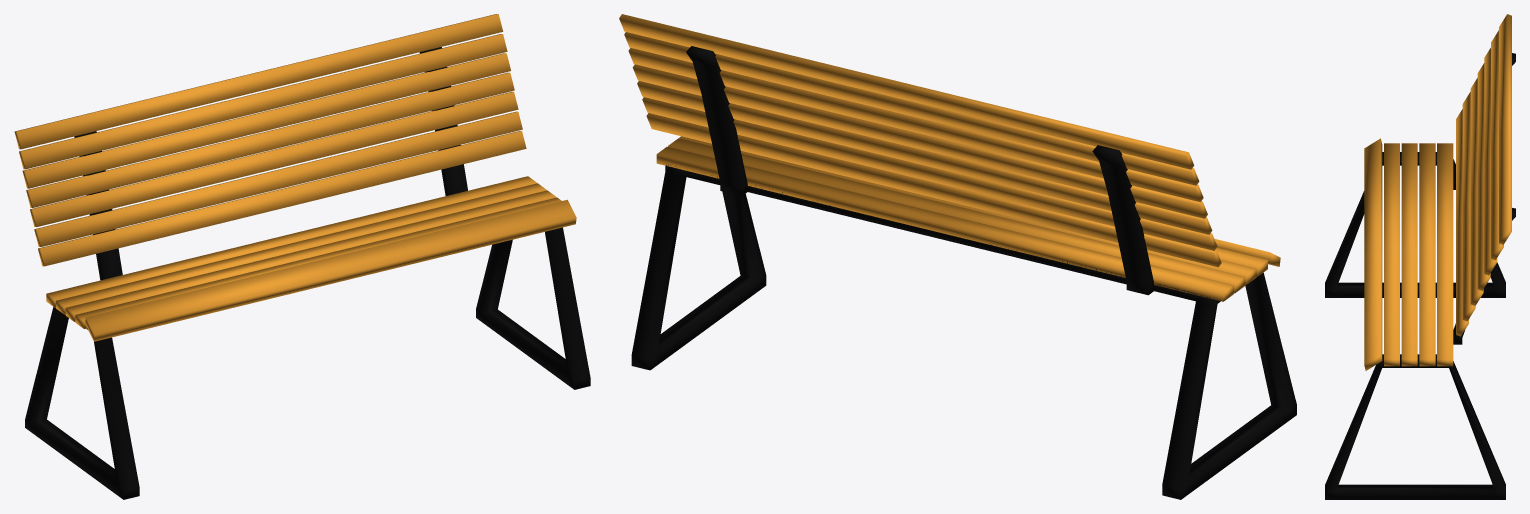
Rendered from bench.fbx.
The picture shows the model from 3 angles, left to right: view 1: azimuth 30°, elevation 25°; view 2: azimuth 150°, elevation 25°; view 3: azimuth 270°, elevation 25°; orthographic projection. The views are drawn at different scales.
Visible parts, largest first — view 1: bench; view 2: bench; view 3: bench.
Part boxes in pixels (box(x1,y1,x2,y2)): bench: box(14, 14, 590, 499); bench: box(619, 14, 1296, 499); bench: box(1325, 14, 1515, 499).
Size of the model in its own units: 149 by 88.17 by 55.77.
